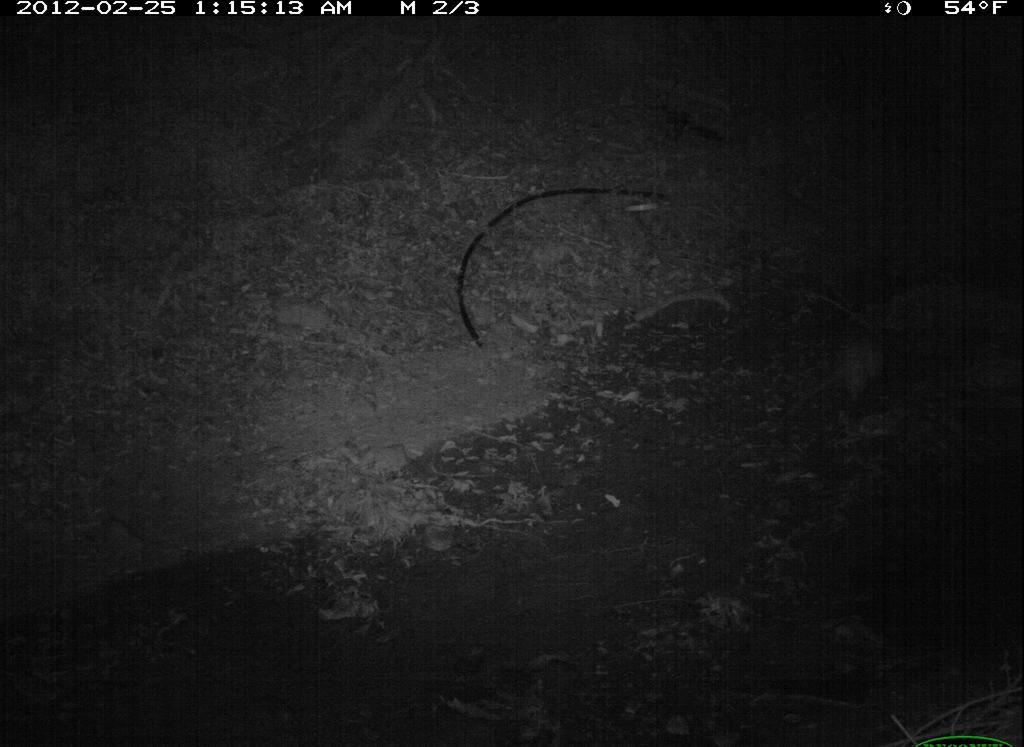opossum: (788, 316, 909, 432)
